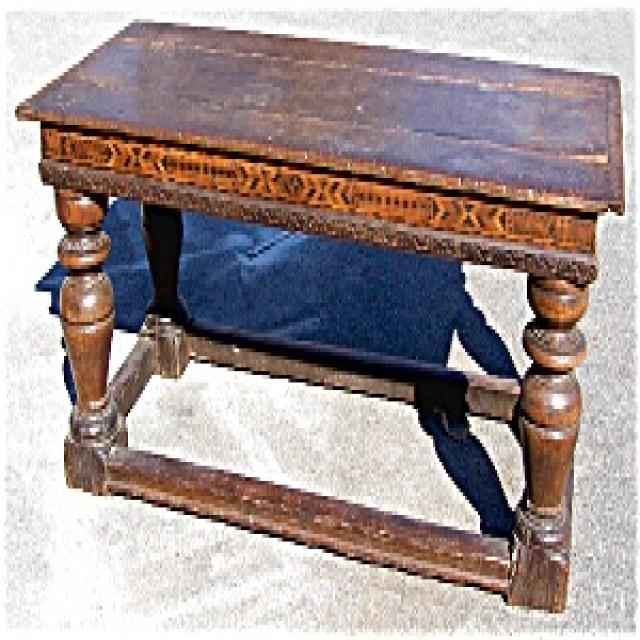table: (13, 16, 626, 620)
